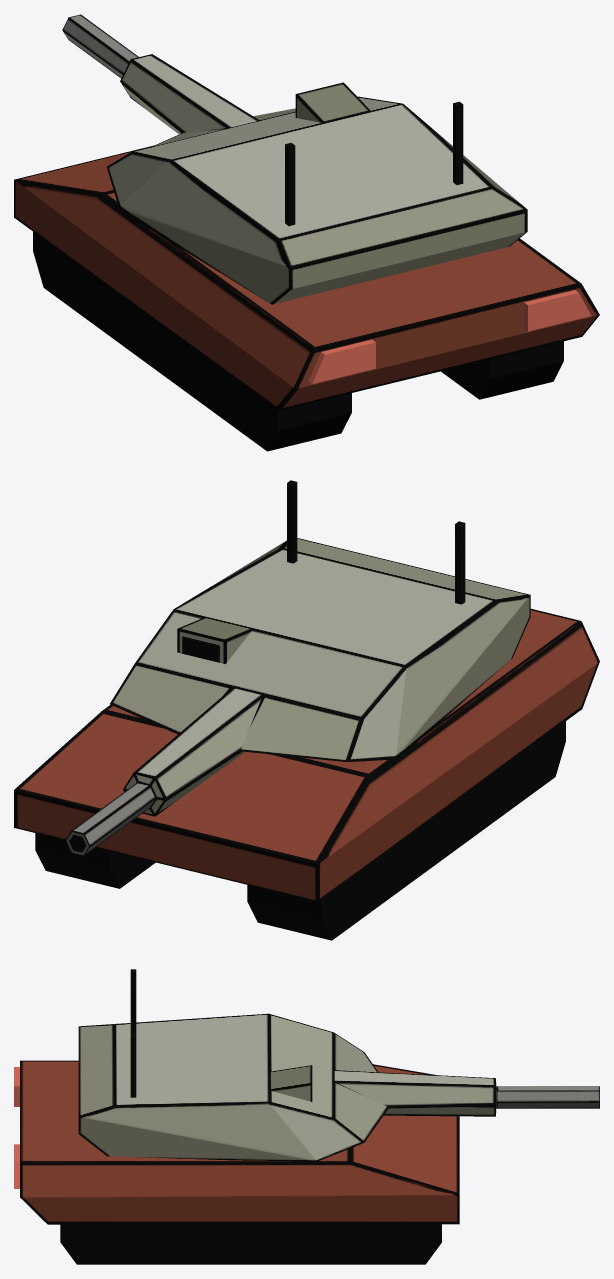
File: tank_gen_2.gltf
3 renders of one model, top to bottom at view 1: azimuth 30°, elevation 25°; view 2: azimuth 150°, elevation 25°; view 3: azimuth 270°, elevation 25°, orthographic. The views are drawn at different scales.
Visible parts, largest first — view 1: Head, Body, Track2, TailLight1; view 2: Head, Body, Track2; view 3: Head, Body, Track2, TailLight1.
Part boxes in pixels (x1,y1,x2,y2): Head: (62,14,527,304); Body: (14,145,599,410); Track2: (33,232,563,451); TailLight1: (308,290,591,383); Head: (65,480,530,856); Body: (14,608,599,901); Track2: (35,721,565,940); Head: (78,969,599,1161); Body: (20,1060,459,1224); Track2: (60,1224,441,1264); TailLight1: (14,1067,19,1188).
Bounding box in the file's own units: 16.34 × 13.63 × 34.92.
Materials: 4 (2 with a texture image).
